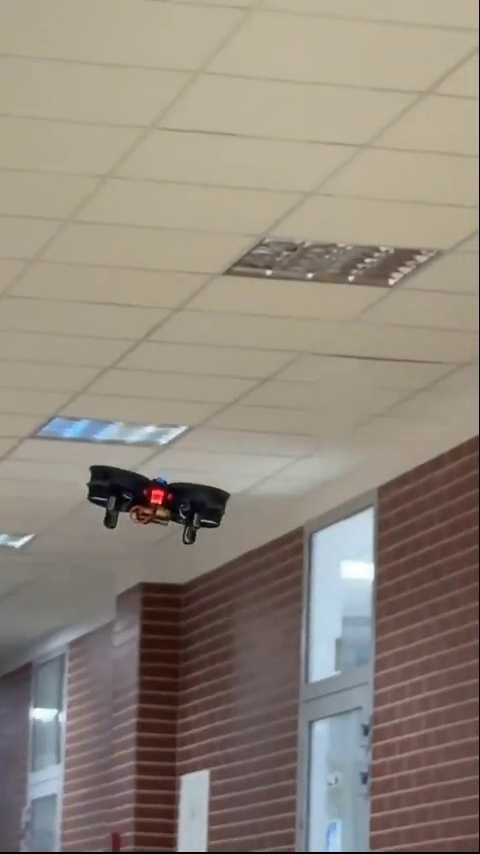drone: (84, 464, 233, 548)
